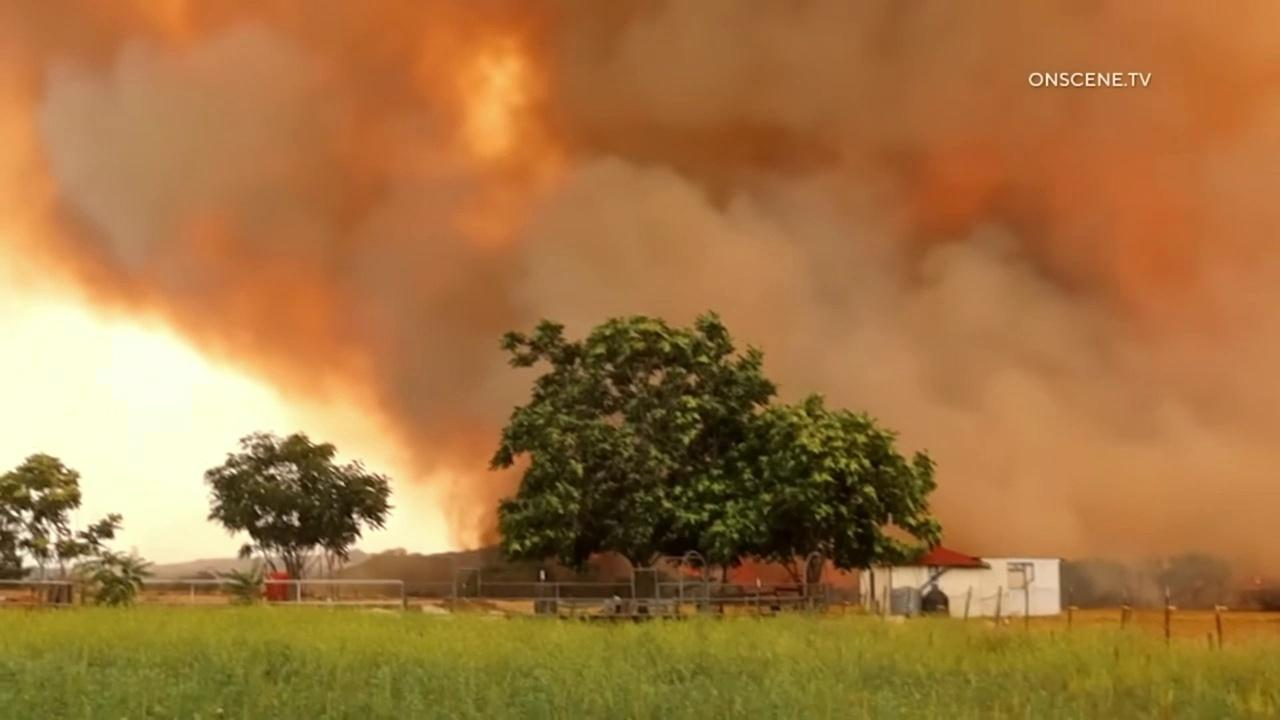smoke: (0, 0, 1280, 610)
